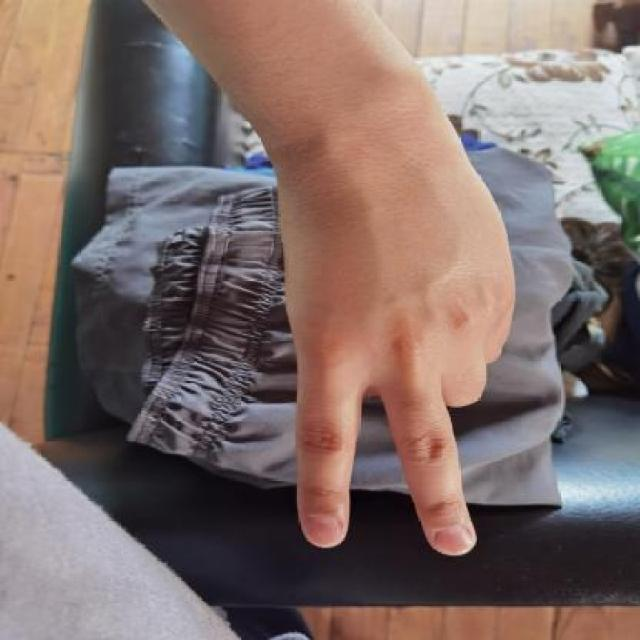N: (256, 138, 542, 573)
